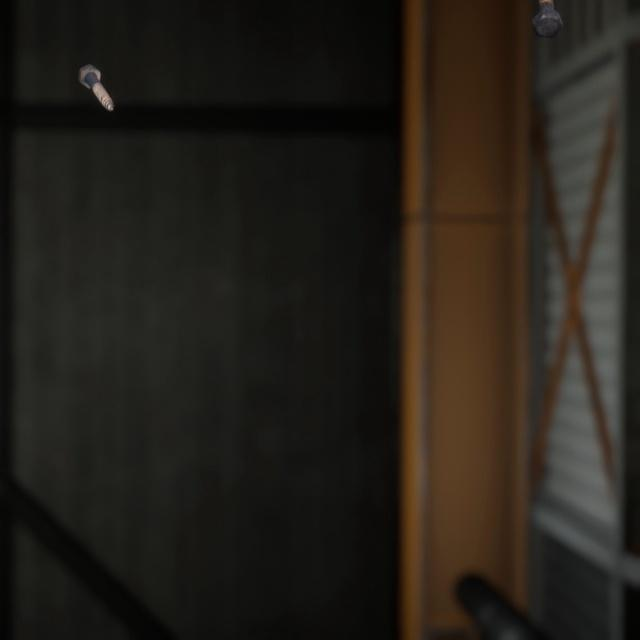bolt: (74, 49, 118, 103), (527, 0, 567, 34)
